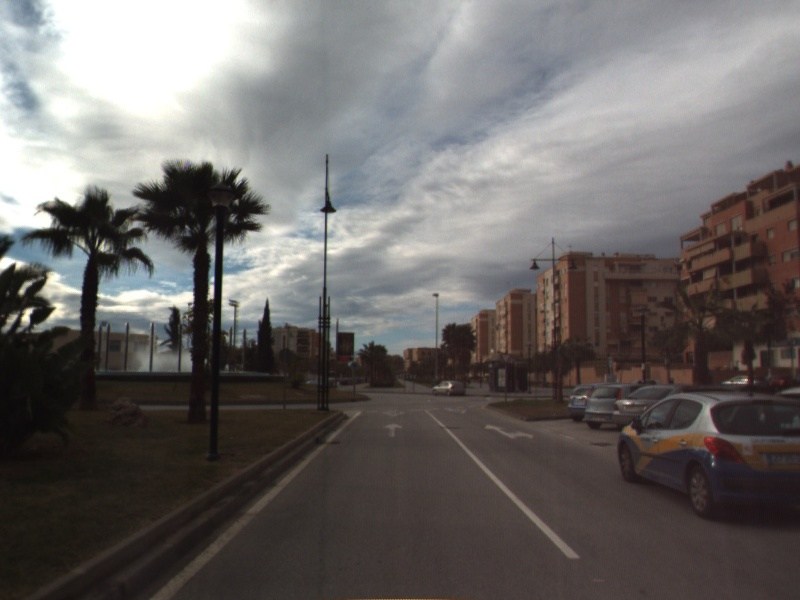STRAIGHT: (381, 421, 405, 439)
STRAIGHT_RIGHT: (483, 423, 535, 441)
